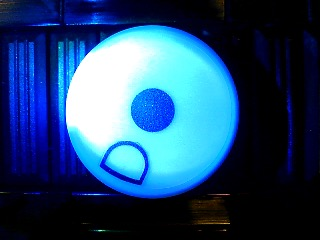BOHOMIPO1: (64, 24, 241, 199)
